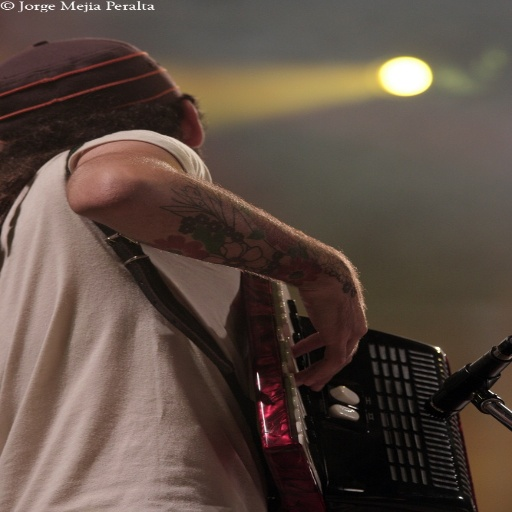hand: (284, 263, 369, 393)
